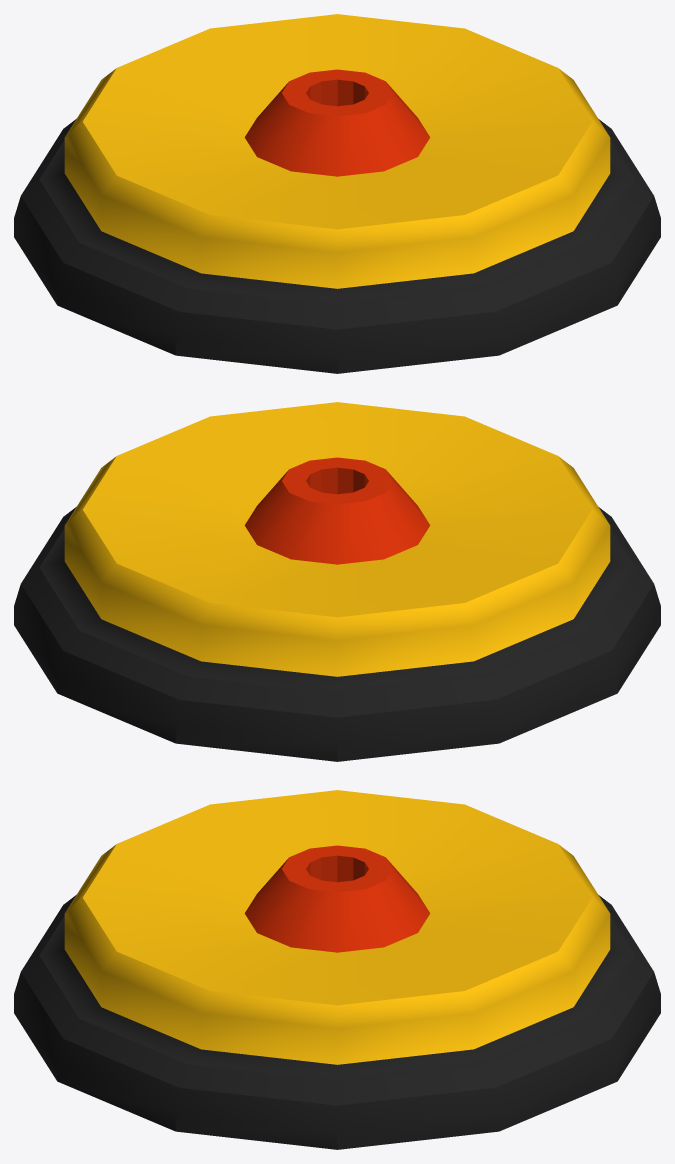
Rendered from prop_confetti_base.fbx.
The picture shows the model from 3 angles, top to bottom: view 1: azimuth 30°, elevation 25°; view 2: azimuth 150°, elevation 25°; view 3: azimuth 270°, elevation 25°; orthographic projection.
Parts seen in each view (by area): view 1: prop_confetti_base; view 2: prop_confetti_base; view 3: prop_confetti_base.
Part boxes in pixels (bbox=[...]): prop_confetti_base: bbox=[14, 14, 660, 373]; prop_confetti_base: bbox=[14, 402, 660, 761]; prop_confetti_base: bbox=[14, 790, 660, 1149].
Bounding box in the file's own units: 119 × 29.18 × 119.
1 material, 1 textured.
